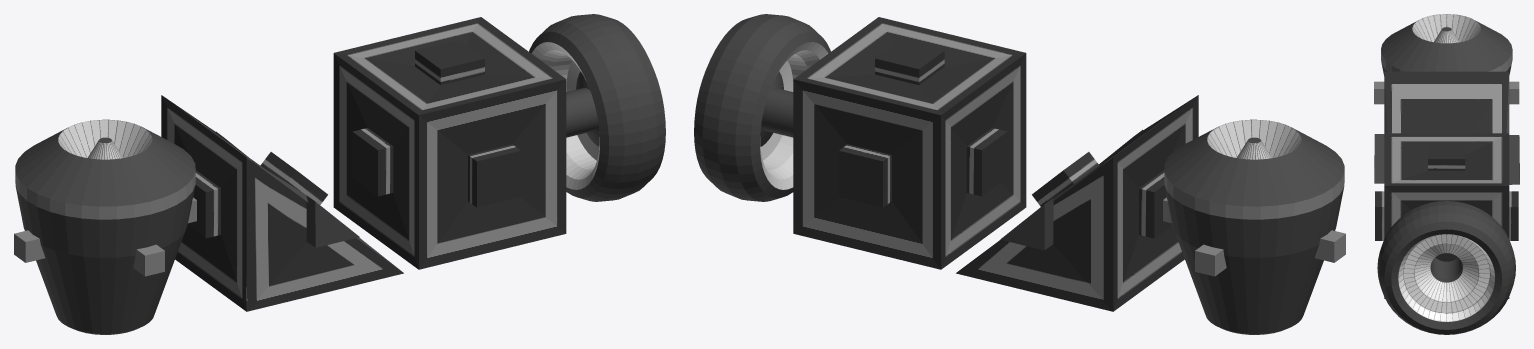
Rendered from blocks.fbx.
The picture shows the model from 3 angles, left to right: view 1: azimuth 30°, elevation 25°; view 2: azimuth 150°, elevation 25°; view 3: azimuth 270°, elevation 25°; orthographic projection. The views are drawn at different scales.
Visible parts, largest first — view 1: Cube.001, Cylinder, Cube.000, Torus; view 2: Cube.001, Cylinder, Cube.000, Torus; view 3: Torus, Cube.001, Cube.000, Cylinder.
Part boxes in pixels (x1=…): Cube.001: x1=333, y1=17, x2=566, y2=269; Cylinder: x1=14, y1=119, x2=196, y2=334; Cube.000: x1=161, y1=95, x2=403, y2=311; Torus: x1=529, y1=14, x2=665, y2=201; Cube.001: x1=793, y1=17, x2=1026, y2=269; Cylinder: x1=1163, y1=119, x2=1345, y2=334; Cube.000: x1=956, y1=95, x2=1198, y2=311; Torus: x1=694, y1=14, x2=830, y2=201; Torus: x1=1377, y1=201, x2=1515, y2=334; Cube.001: x1=1375, y1=133, x2=1518, y2=298; Cube.000: x1=1374, y1=71, x2=1519, y2=184; Cylinder: x1=1374, y1=14, x2=1519, y2=104.
Size of the model in its own units: 353 by 98.74 by 100.
